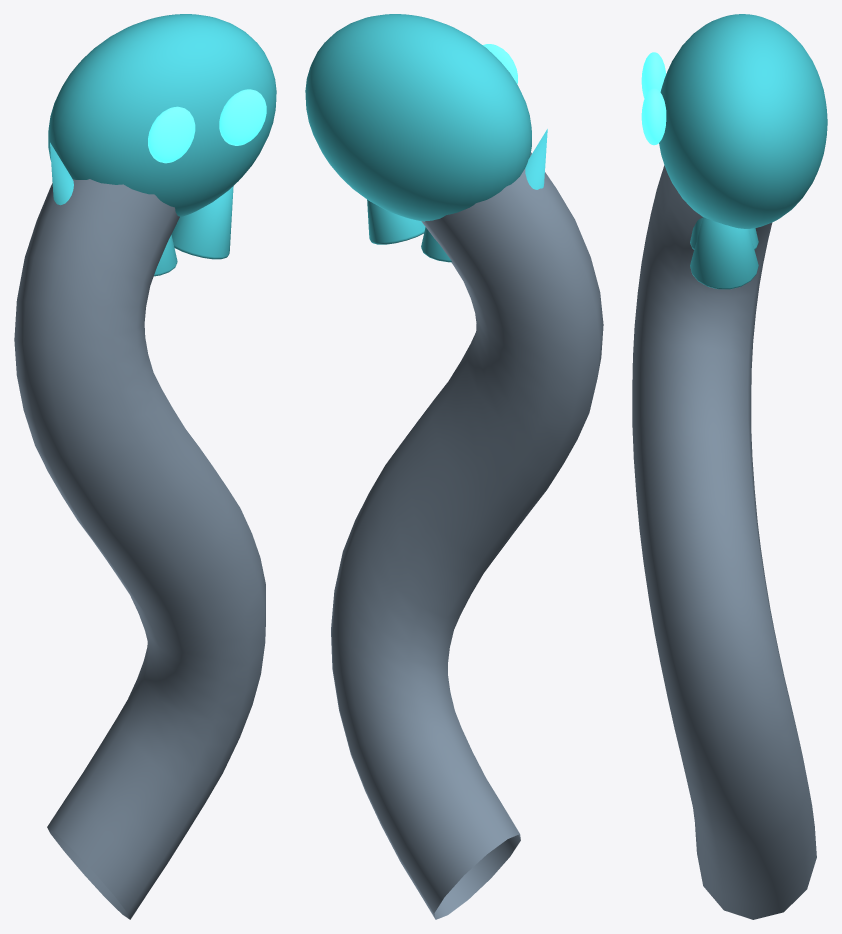
Rendered from serpent_v4.glb.
3 renders of one model, left to right at view 1: azimuth 30°, elevation 25°; view 2: azimuth 150°, elevation 25°; view 3: azimuth 270°, elevation 25°, orthographic. The views are drawn at different scales.
Visible parts, largest first — view 1: SERPENT_BODY_PRIMARY, SERPENT_HEAD_ACCENT, CROWN_HORN_ACCENT.002, EYE_EMISSIVE.001, EYE_EMISSIVE, CROWN_HORN_ACCENT; view 2: SERPENT_BODY_PRIMARY, SERPENT_HEAD_ACCENT, CROWN_HORN_ACCENT.002, CROWN_HORN_ACCENT; view 3: SERPENT_BODY_PRIMARY, SERPENT_HEAD_ACCENT, CROWN_HORN_ACCENT.002, EYE_EMISSIVE.001, EYE_EMISSIVE.
Part boxes in pixels (x1,y1,x2,y2): SERPENT_BODY_PRIMARY: [14, 179, 265, 919]; SERPENT_HEAD_ACCENT: [48, 14, 276, 217]; CROWN_HORN_ACCENT.002: [171, 186, 233, 259]; EYE_EMISSIVE.001: [219, 89, 266, 145]; EYE_EMISSIVE: [148, 106, 195, 163]; CROWN_HORN_ACCENT: [50, 142, 73, 205]; SERPENT_BODY_PRIMARY: [331, 152, 603, 919]; SERPENT_HEAD_ACCENT: [305, 14, 531, 221]; CROWN_HORN_ACCENT.002: [367, 199, 425, 244]; CROWN_HORN_ACCENT: [525, 129, 547, 189]; SERPENT_BODY_PRIMARY: [632, 165, 816, 919]; SERPENT_HEAD_ACCENT: [659, 14, 827, 228]; CROWN_HORN_ACCENT.002: [690, 217, 758, 289]; EYE_EMISSIVE.001: [641, 88, 666, 145]; EYE_EMISSIVE: [641, 52, 666, 98].
Bounding box in the file's own units: 1.09 × 3.46 × 0.67.
